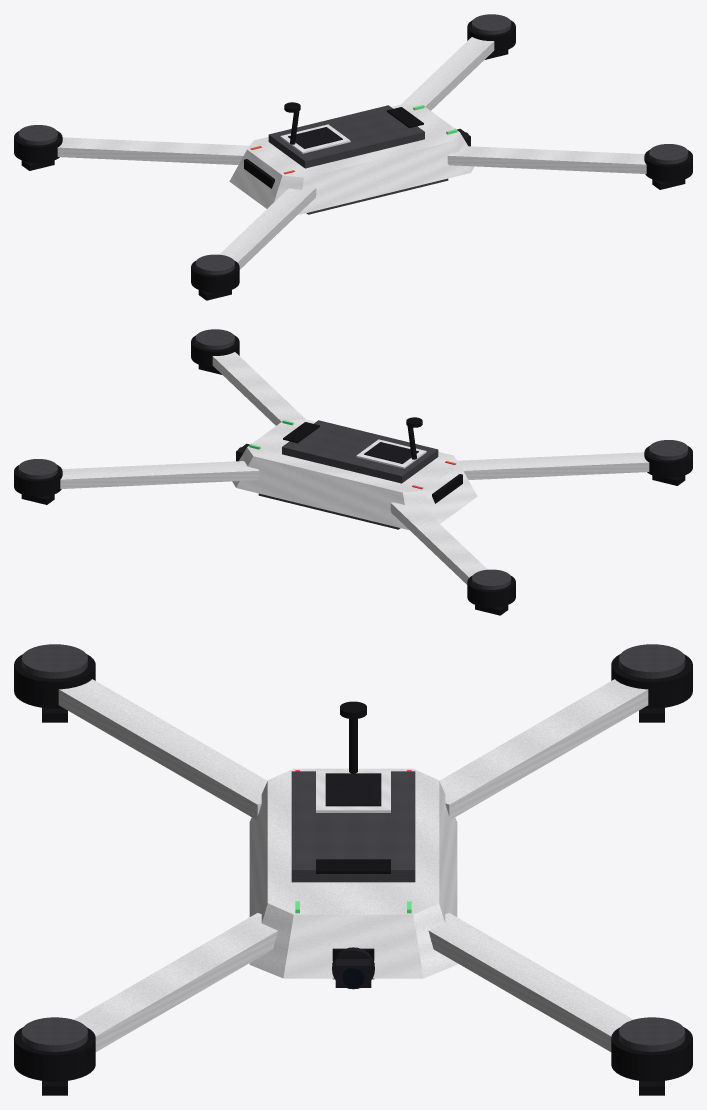
File: drone_high.fbx
3 renders of one model, top to bottom at view 1: azimuth 30°, elevation 25°; view 2: azimuth 150°, elevation 25°; view 3: azimuth 270°, elevation 25°, orthographic. The views are drawn at different scales.
Parts seen in each view (by area): view 1: DroneModel; view 2: DroneModel; view 3: DroneModel.
Boxes of the visible parts, x1=… form: DroneModel: x1=14, y1=14, x2=692, y2=300; DroneModel: x1=14, y1=329, x2=692, y2=615; DroneModel: x1=14, y1=644, x2=692, y2=1095.
Size of the model in its own units: 189 by 133 by 33.43.
